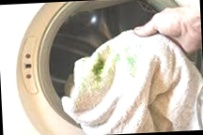earth: (91, 58, 108, 84), (124, 52, 139, 76), (112, 53, 121, 64)
